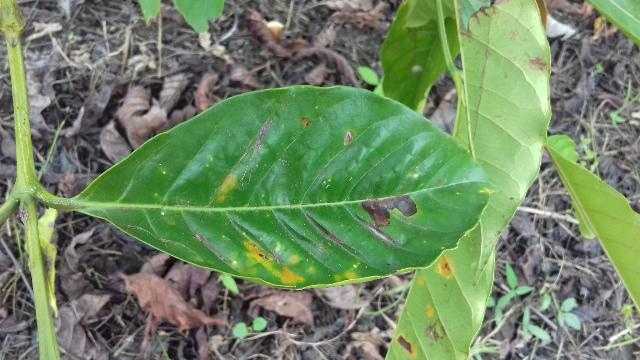rust_level_2: (46, 80, 505, 287)
